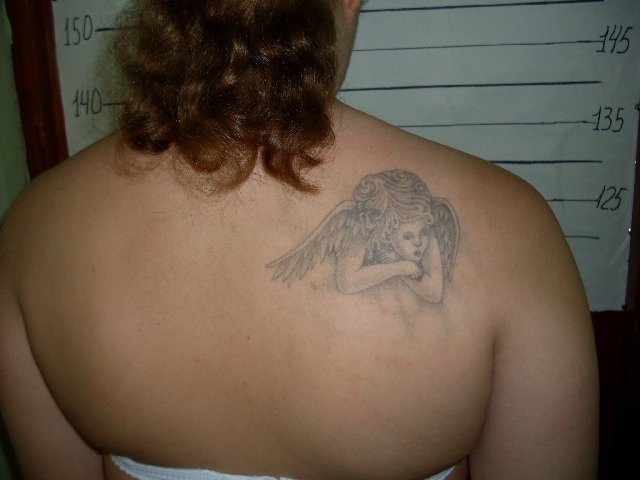tatu1_angel: (265, 168, 472, 309)
